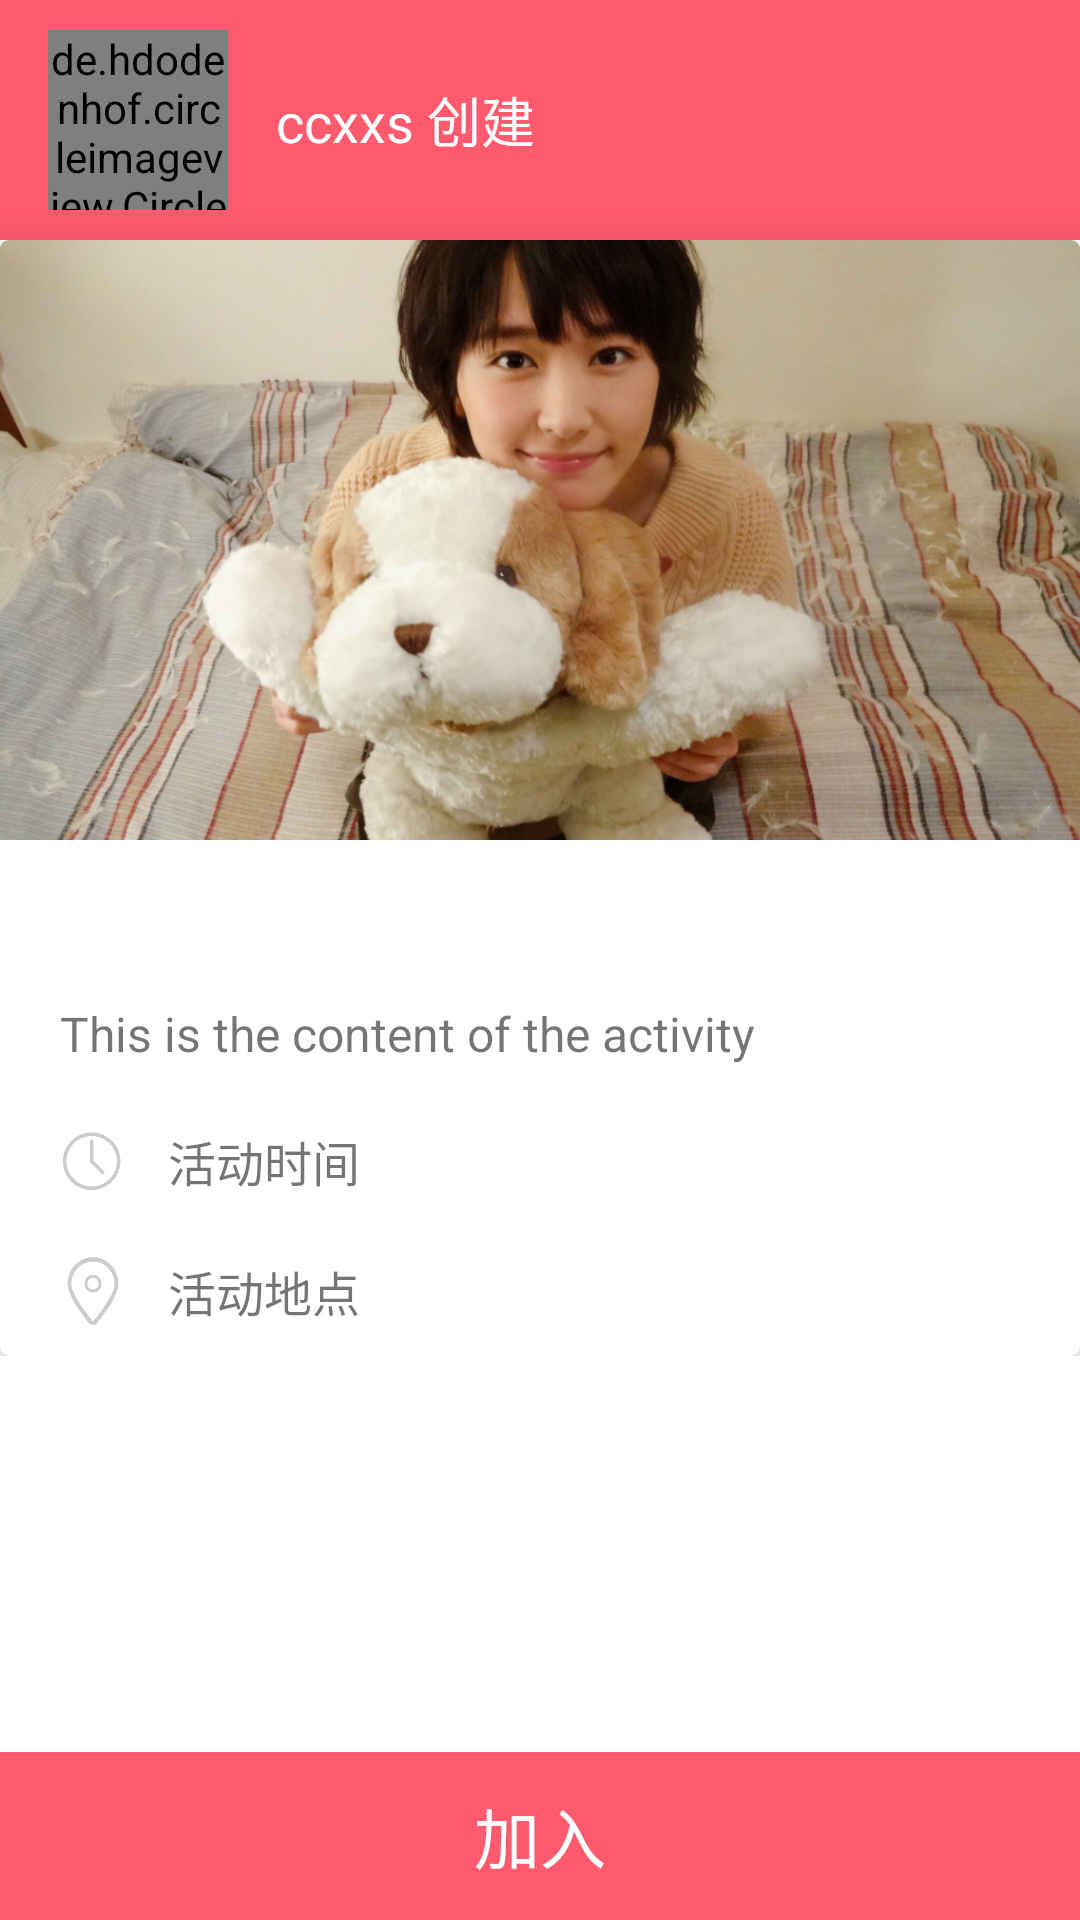

Icon bounding boxes for this 1080x1920 phone screenshot, format (x1, y1, x2, y2):
clock: (63, 1132, 120, 1190)
location: (68, 1257, 118, 1325)
